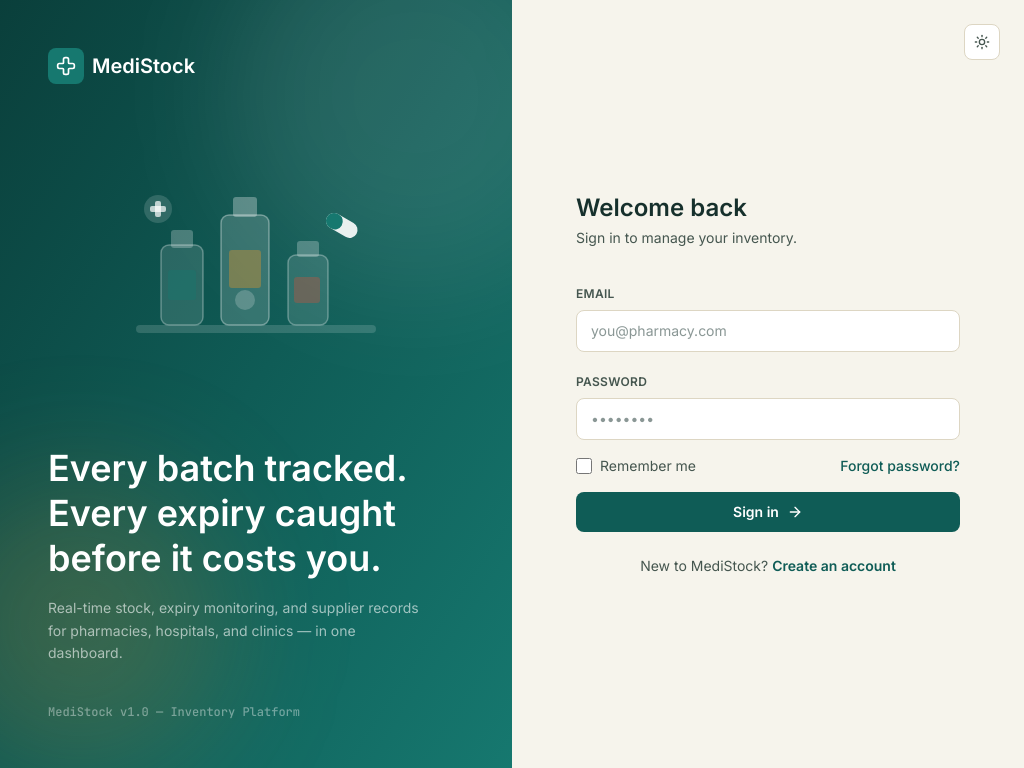
Test case: Login page › shows the backend error message when login fails
The width and height of the screenshot is (1024, 768).
Type "wrong@medistock.com" into the field with placeholder "you@pharmacy.com" at (768,331), box left=576, top=310, right=960, bottom=352
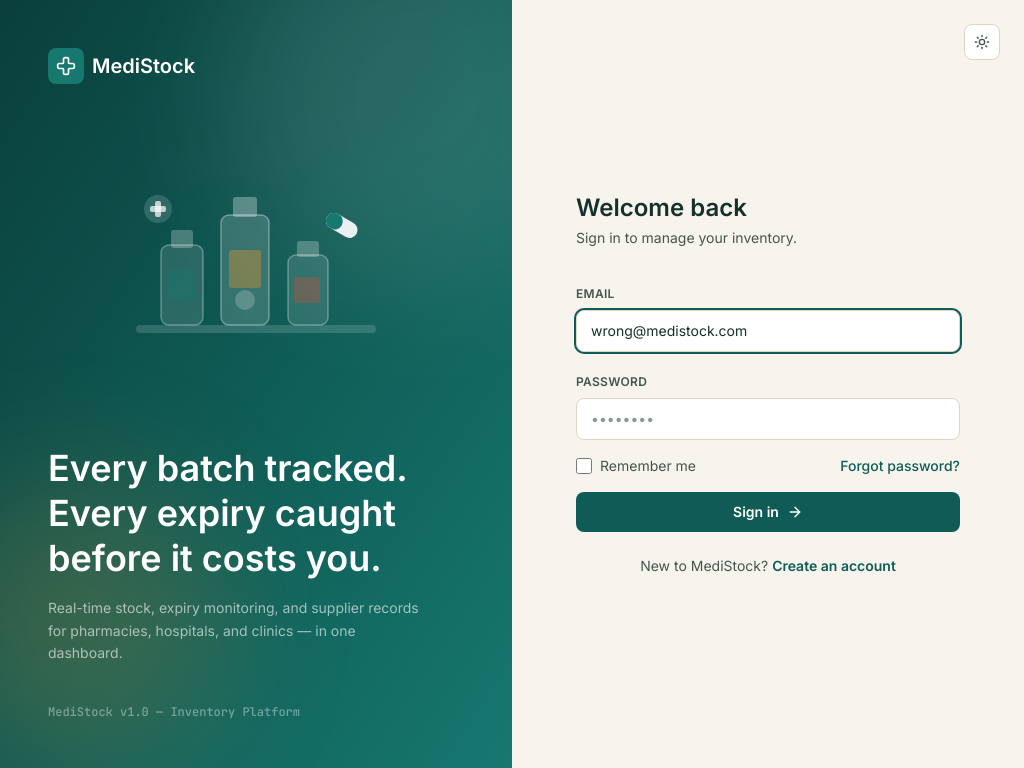
Type "wrongpass" into the password field with placeholder "••••••••" at (768,419), box left=576, top=398, right=960, bottom=440
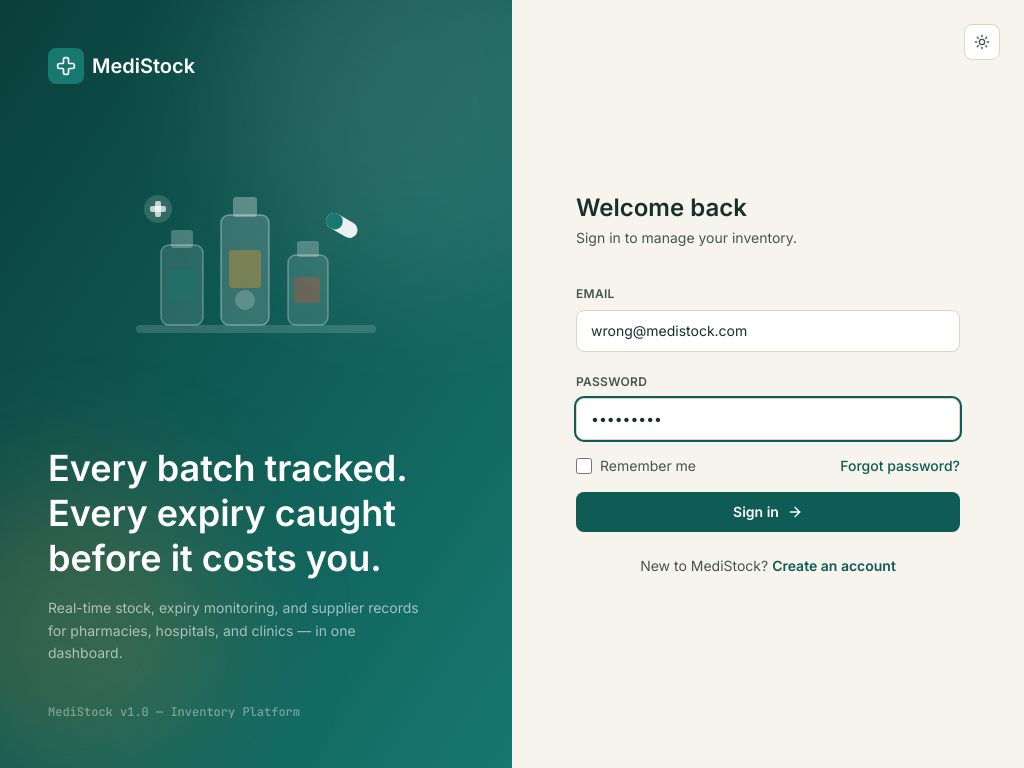
Click the button "Sign in" at (768,512), box left=576, top=492, right=960, bottom=532
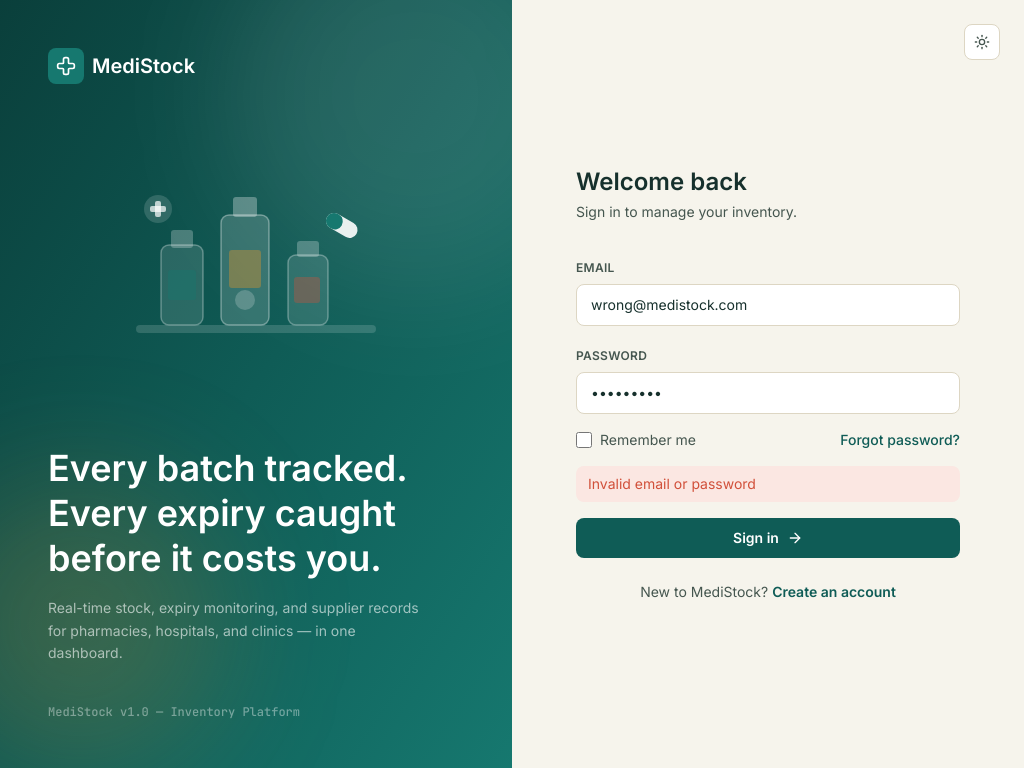
Expected: the text "Invalid email or password" is shown, left=576, top=466, right=960, bottom=502
